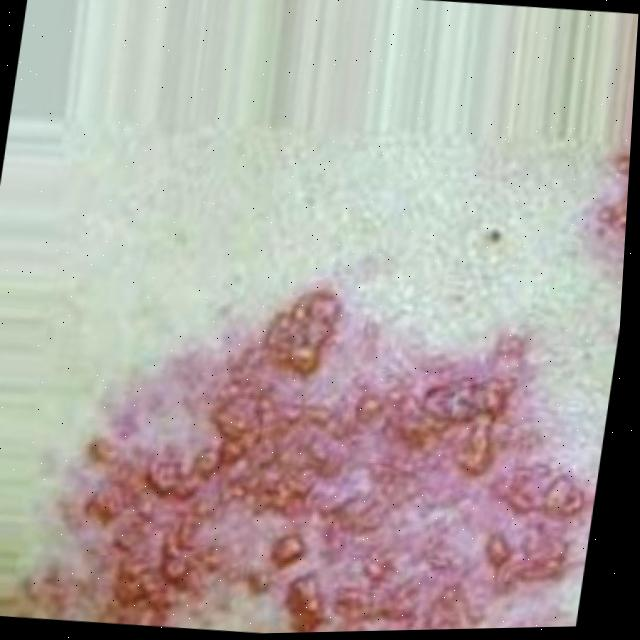Shingles: (16, 260, 624, 639), (592, 151, 630, 234)
